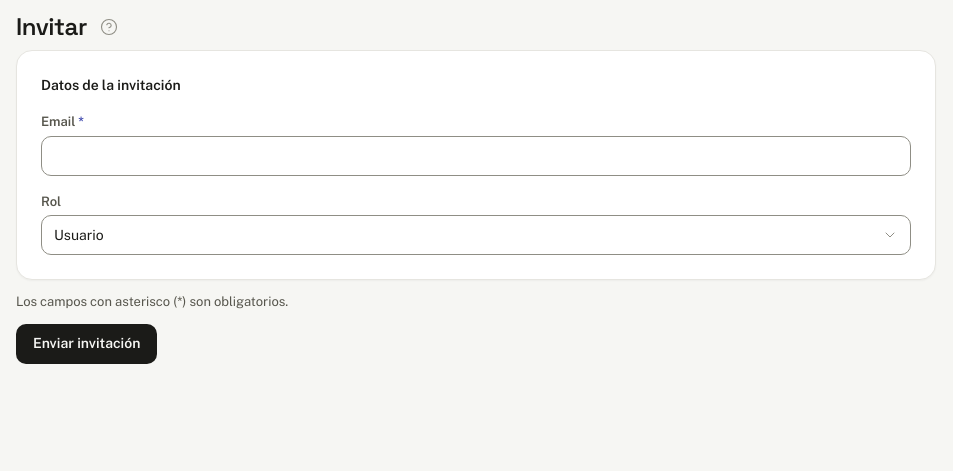
it: InvitationFormPage › error real del backend (409 email ya usuario) se muestra tal cual
In the field labelled "Email": (476, 156) top-left (41, 136), bottom-right (911, 176), type "existente@example.com"
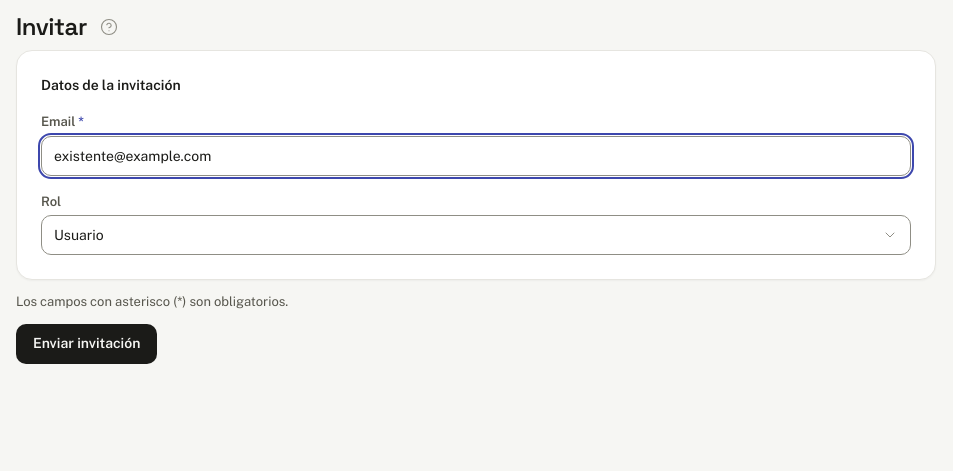
Click the button "Enviar invitación": (87, 344) top-left (16, 324), bottom-right (157, 364)
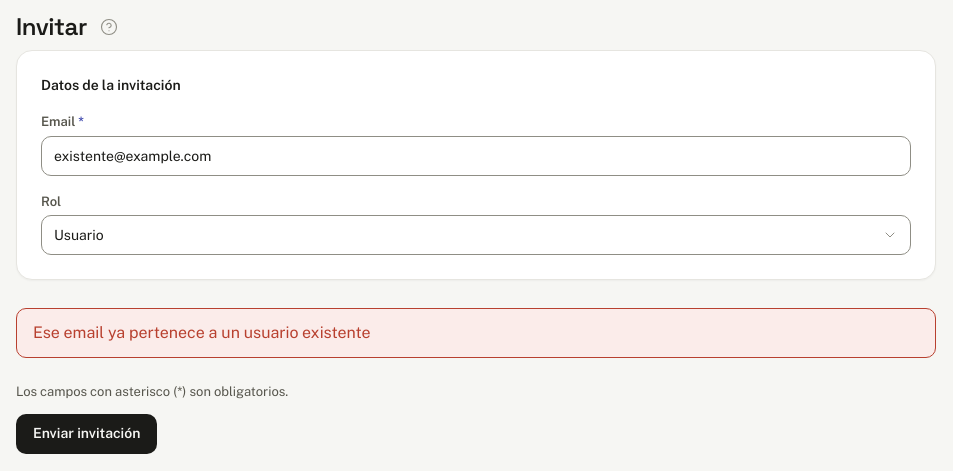
Expected: the text "Ese email ya pertenece a un usuario existente" is shown, top-left (16, 308), bottom-right (936, 358)
